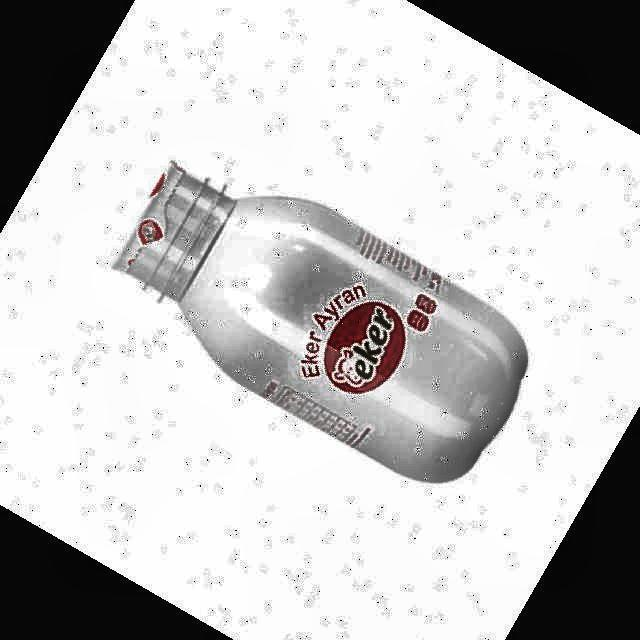plastic: (115, 162, 528, 482)
